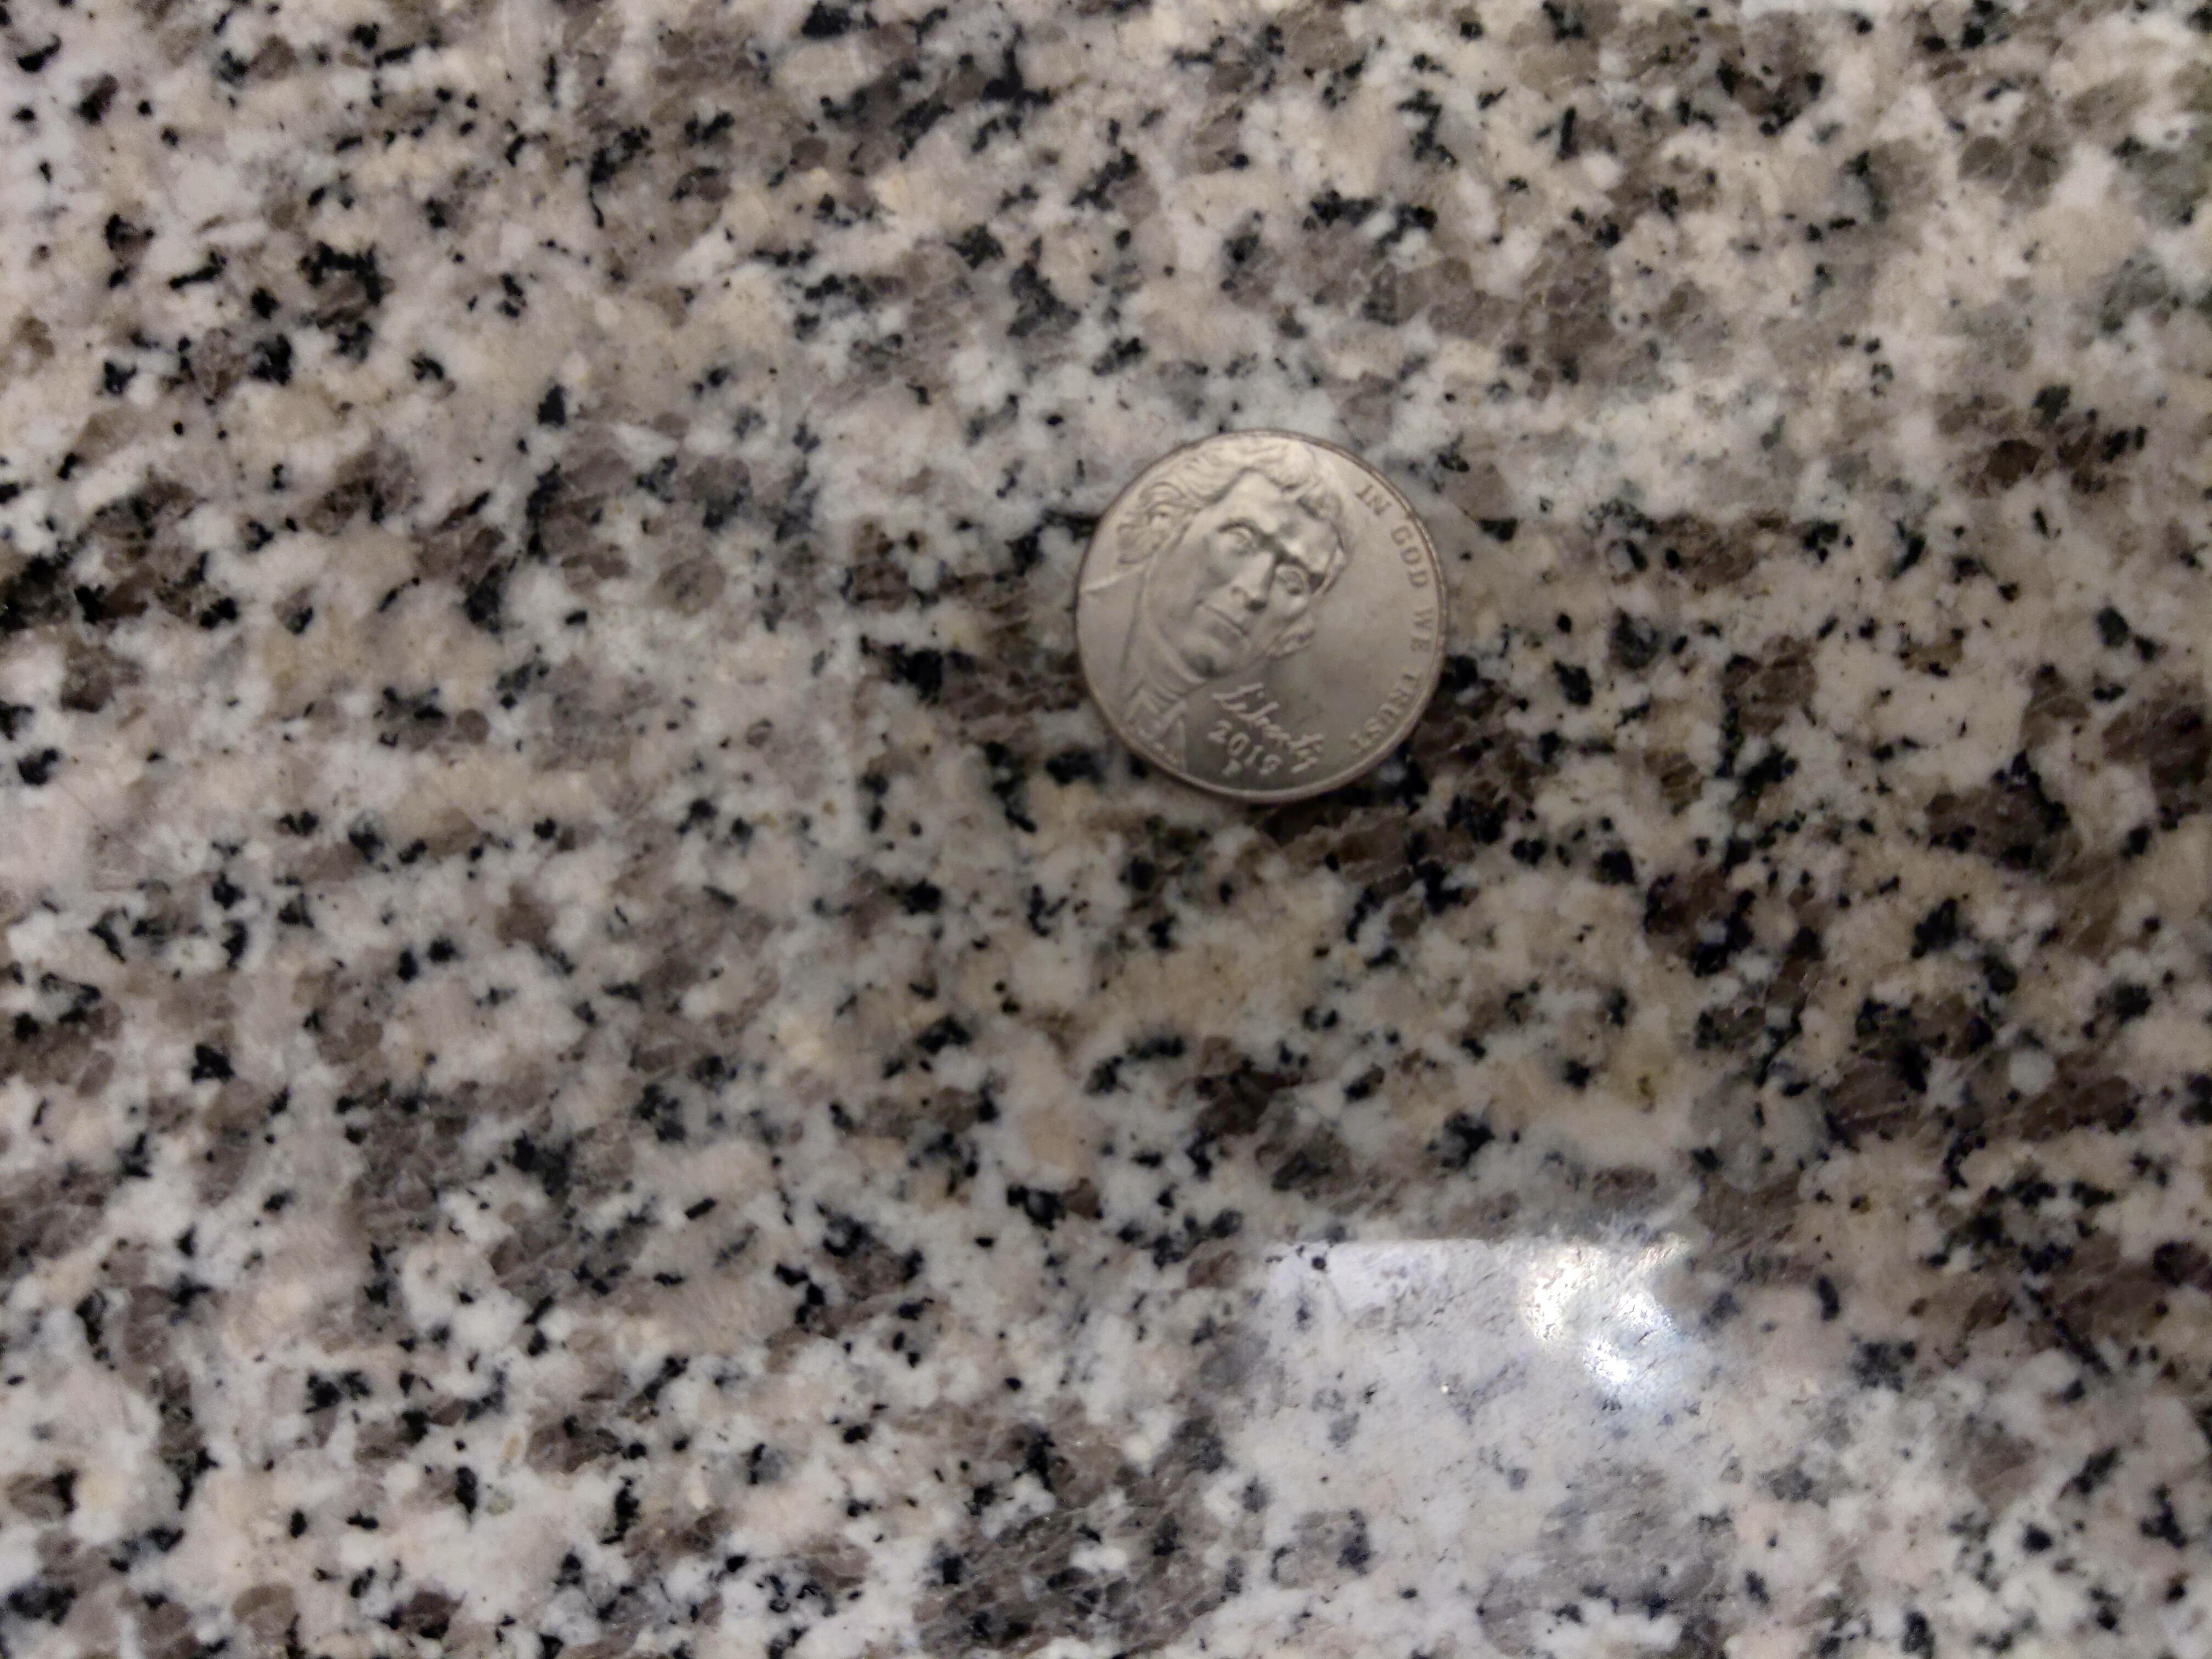Nickel: (1076, 429, 1451, 805)
